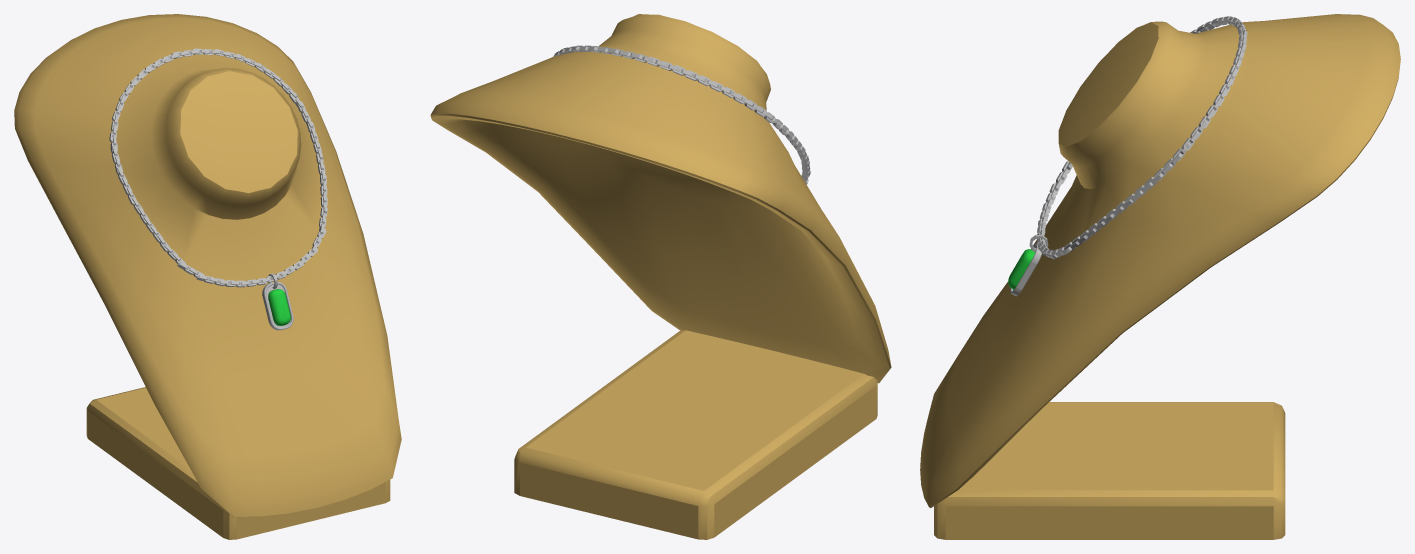
File: Necklace_20.fbx
3 renders of one model, left to right at view 1: azimuth 30°, elevation 25°; view 2: azimuth 150°, elevation 25°; view 3: azimuth 270°, elevation 25°, orthographic. The views are drawn at different scales.
Visible parts, largest first — view 1: SM_Stand_Necklace_9, SM_Necklace_10, SM_Cullon_7; view 2: SM_Stand_Necklace_9, SM_Necklace_10; view 3: SM_Stand_Necklace_9, SM_Necklace_10, SM_Cullon_7.
Part boxes in pixels (bbox=[...]): SM_Stand_Necklace_9: bbox=[14, 14, 401, 539]; SM_Necklace_10: bbox=[109, 48, 327, 287]; SM_Cullon_7: bbox=[262, 273, 293, 330]; SM_Stand_Necklace_9: bbox=[430, 14, 891, 539]; SM_Necklace_10: bbox=[553, 45, 810, 184]; SM_Stand_Necklace_9: bbox=[920, 14, 1400, 539]; SM_Necklace_10: bbox=[1036, 16, 1247, 259]; SM_Cullon_7: bbox=[1008, 235, 1048, 296].
Size of the model in its own units: 22.51 by 29.29 by 27.78.
